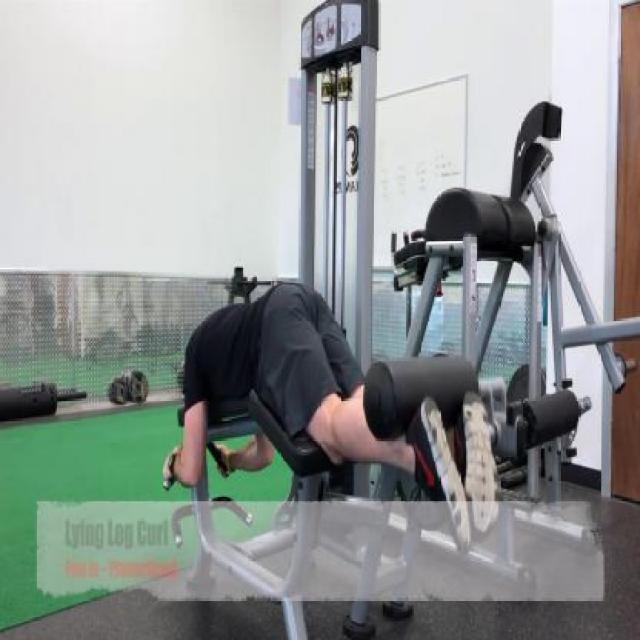reg curl machine: (161, 0, 580, 635)
